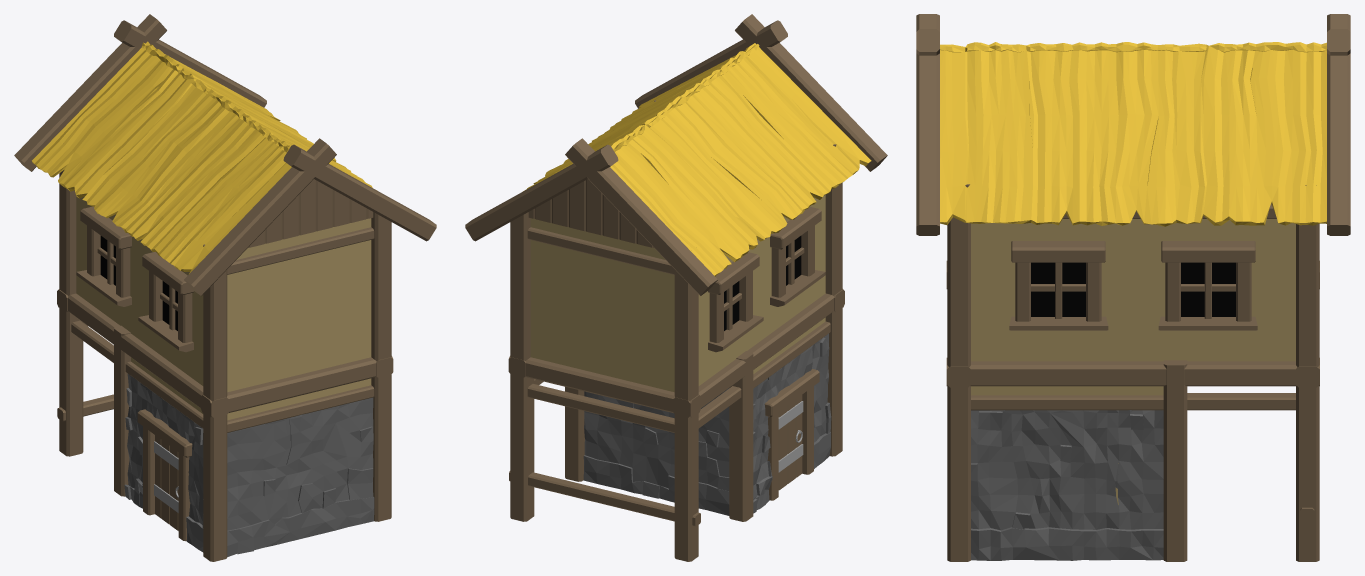
File: House 6.fbx
The picture shows the model from 3 angles, left to right: view 1: azimuth 30°, elevation 25°; view 2: azimuth 150°, elevation 25°; view 3: azimuth 270°, elevation 25°; orthographic projection. The views are drawn at different scales.
Visible parts, largest first — view 1: House 6; view 2: House 6; view 3: House 6.
Boxes of the visible parts, box(x1,y1,x2,y2) form: House 6: box(14, 14, 436, 561); House 6: box(465, 14, 887, 561); House 6: box(916, 14, 1350, 561).
Size of the model in its own units: 5.28 by 8.29 by 6.69.
